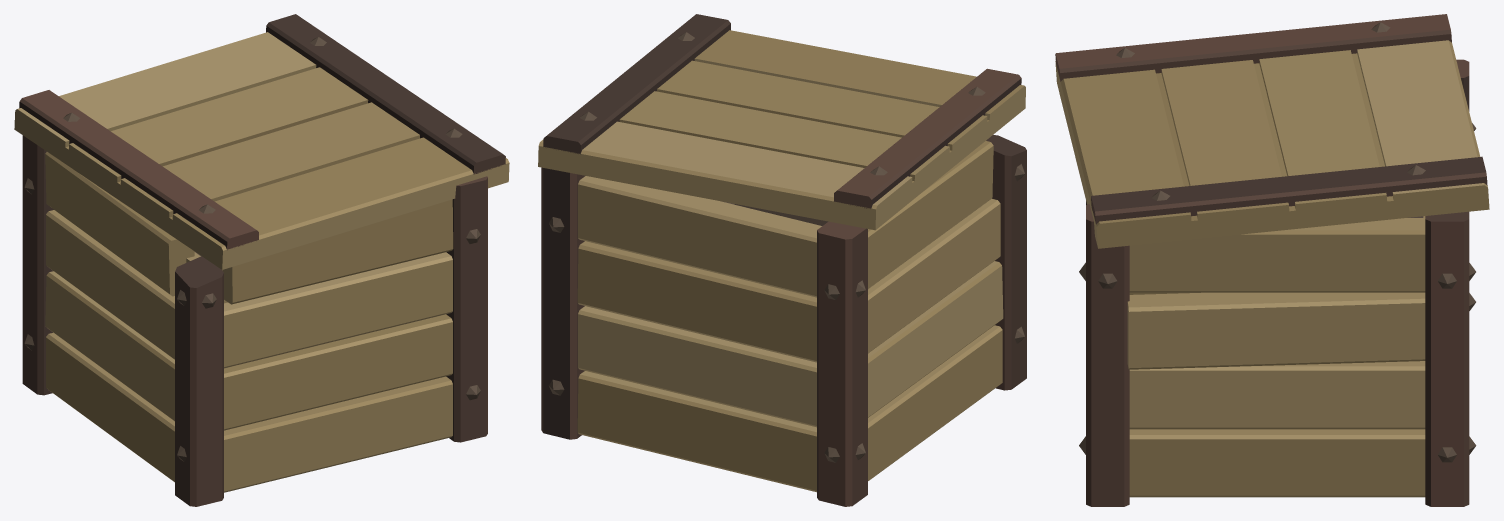
Rendered from crate.glb.
The picture shows the model from 3 angles, left to right: view 1: azimuth 30°, elevation 25°; view 2: azimuth 150°, elevation 25°; view 3: azimuth 270°, elevation 25°; orthographic projection. The views are drawn at different scales.
Parts seen in each view (by area): view 1: crate-body, lid-panel; view 2: crate-body, lid-panel; view 3: crate-body, lid-panel.
Boxes of the visible parts, x1=… form: crate-body: x1=22, y1=135, x2=487, y2=506; lid-panel: x1=14, y1=14, x2=509, y2=269; crate-body: x1=541, y1=135, x2=1026, y2=506; lid-panel: x1=538, y1=14, x2=1025, y2=230; crate-body: x1=1079, y1=59, x2=1476, y2=506; lid-panel: x1=1055, y1=14, x2=1489, y2=248.
Bounding box in the file's own units: 0.7915 × 0.6632 × 0.7927.
